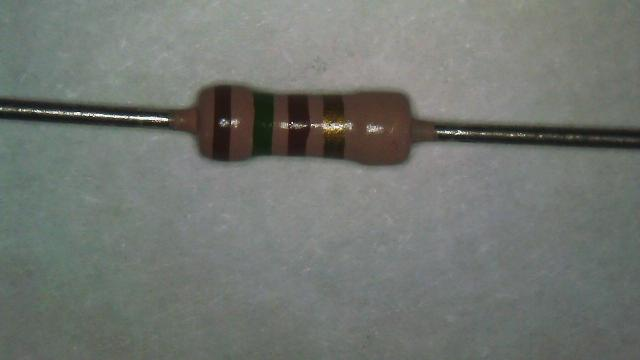brown: (288, 93, 311, 152), (212, 85, 230, 158)
gold: (324, 96, 344, 154)
green: (253, 89, 273, 151)
resistor: (178, 62, 426, 181)
